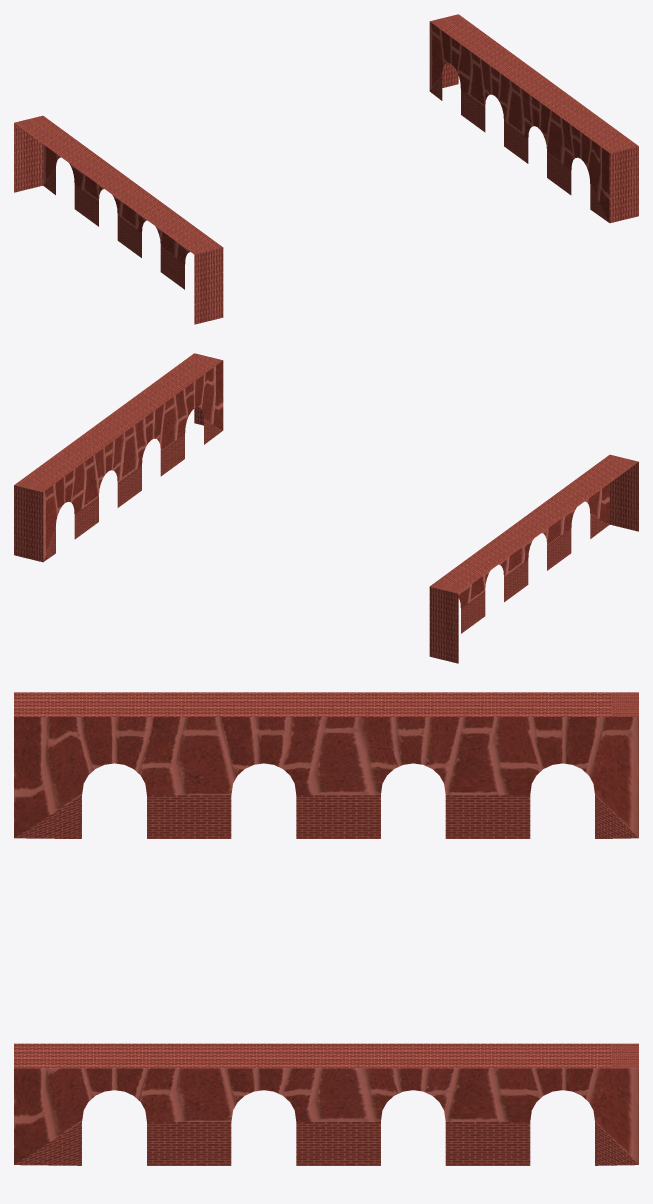
Rendered from backShadow.fbx.
The picture shows the model from 3 angles, top to bottom: view 1: azimuth 30°, elevation 25°; view 2: azimuth 150°, elevation 25°; view 3: azimuth 270°, elevation 25°; orthographic projection. The views are drawn at different scales.
Parts seen in each view (by area): view 1: backShadow; view 2: backShadow; view 3: backShadow.
Part boxes in pixels (left/top/right/bottom): backShadow: left=14, top=14, right=638, bottom=324; backShadow: left=14, top=353, right=638, bottom=663; backShadow: left=14, top=692, right=638, bottom=1165.
Bounding box in the file's own units: 297 × 45.06 × 209.
